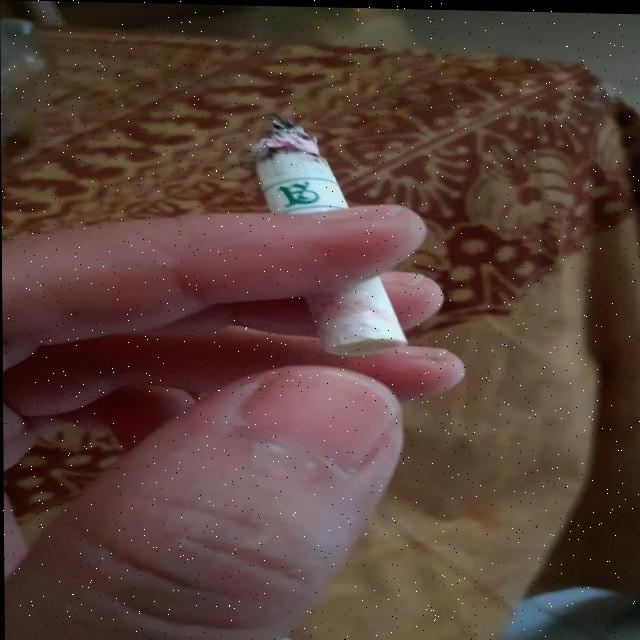cigarette: (256, 117, 405, 356)
